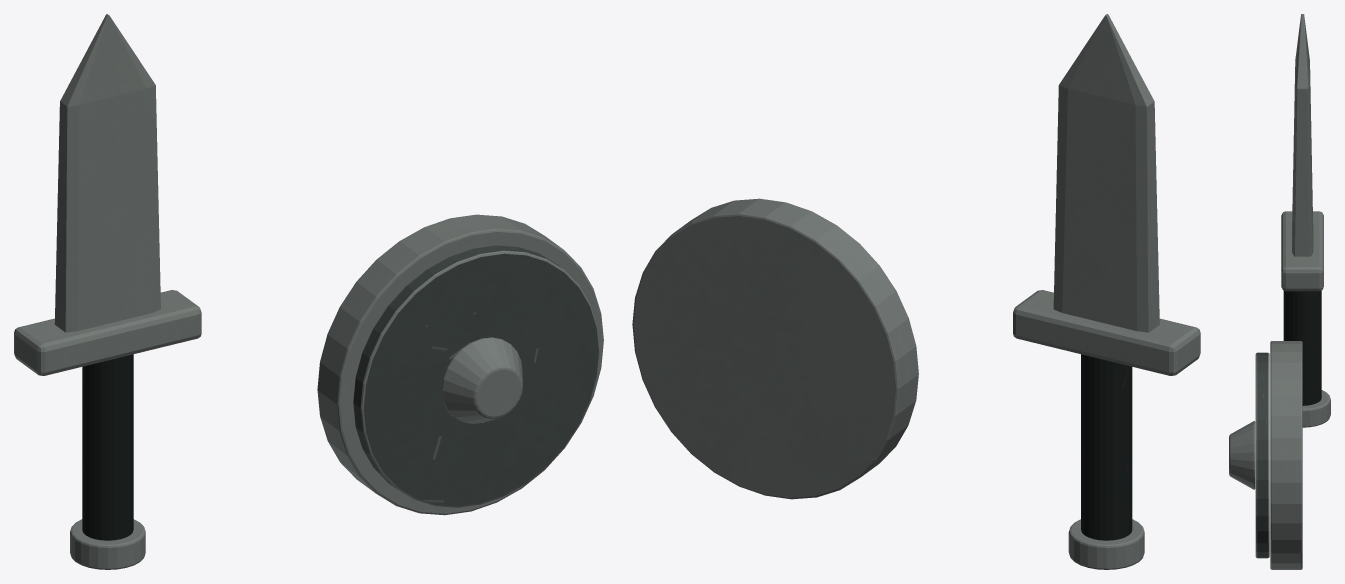
File: sword_shield-t1.glb
The picture shows the model from 3 angles, left to right: view 1: azimuth 30°, elevation 25°; view 2: azimuth 150°, elevation 25°; view 3: azimuth 270°, elevation 25°; orthographic projection. The views are drawn at different scales.
Parts seen in each view (by area): view 1: Buckler painted face, Forged blade, Buckler steel rim, Wrapped handle, Crossguard, Buckler central boss, Weighted pommel; view 2: Buckler steel rim, Forged blade, Wrapped handle, Crossguard, Weighted pommel; view 3: Buckler steel rim, Forged blade, Wrapped handle, Buckler painted face, Crossguard, Buckler central boss, Weighted pommel.
Boxes of the visible parts, x1=… form: Buckler painted face: x1=353, y1=245, x2=599, y2=507; Forged blade: x1=54, y1=14, x2=160, y2=332; Buckler steel rim: x1=317, y1=214, x2=603, y2=515; Wrapped handle: x1=82, y1=354, x2=133, y2=540; Crossguard: x1=14, y1=290, x2=201, y2=375; Buckler central boss: x1=441, y1=337, x2=522, y2=423; Weighted pommel: x1=70, y1=519, x2=145, y2=569; Buckler steel rim: x1=632, y1=198, x2=918, y2=499; Forged blade: x1=1053, y1=14, x2=1159, y2=332; Wrapped handle: x1=1081, y1=354, x2=1132, y2=540; Crossguard: x1=1013, y1=290, x2=1200, y2=375; Weighted pommel: x1=1068, y1=519, x2=1144, y2=569; Buckler steel rim: x1=1270, y1=341, x2=1302, y2=569; Forged blade: x1=1292, y1=14, x2=1313, y2=256; Wrapped handle: x1=1283, y1=290, x2=1321, y2=405; Buckler painted face: x1=1255, y1=352, x2=1269, y2=558; Crossguard: x1=1281, y1=211, x2=1323, y2=291; Buckler central boss: x1=1229, y1=421, x2=1255, y2=489; Weighted pommel: x1=1302, y1=390, x2=1330, y2=427.
Bounding box in the file's own units: 1.63 × 1.58 × 0.346.
Materials: 3 (3 with a texture image).
